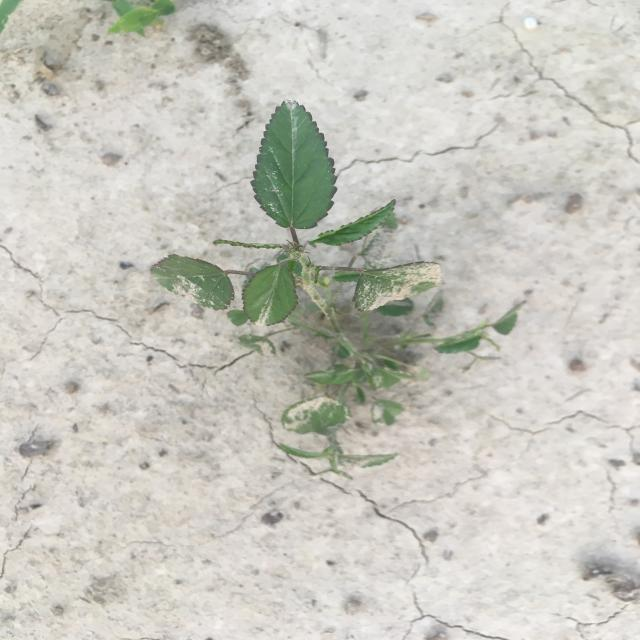PricklySida: (147, 98, 531, 480)
